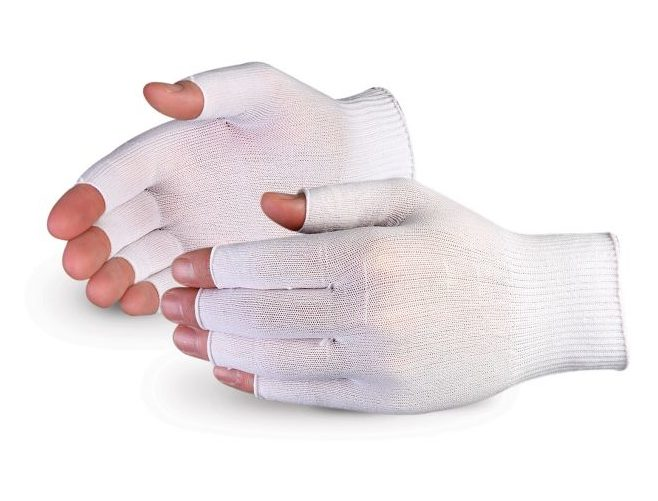defected: (159, 152, 631, 453), (26, 63, 436, 341)
